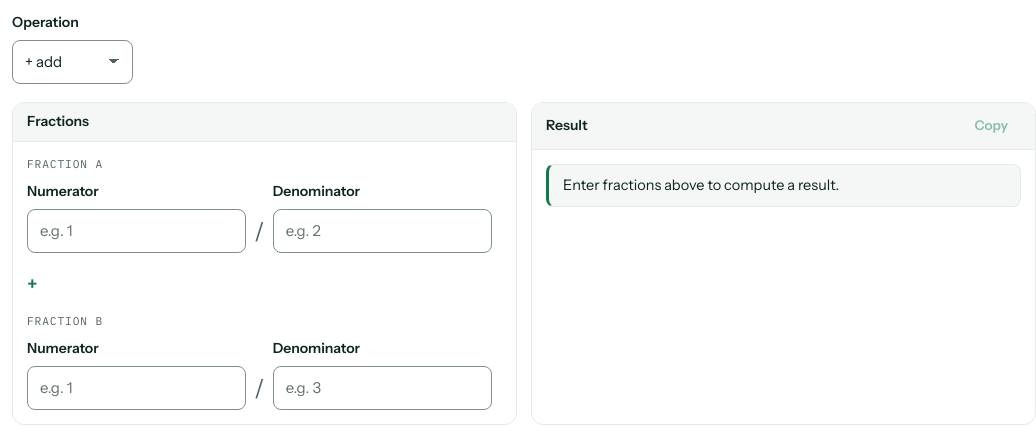
Scenario: FractionCalculator › computes subtraction: 3/4 − 1/4 = 1/2
Switch to subtraction
Select "− subtract" in the dropdown. click: [72, 62]
box: [12,40,133,84]
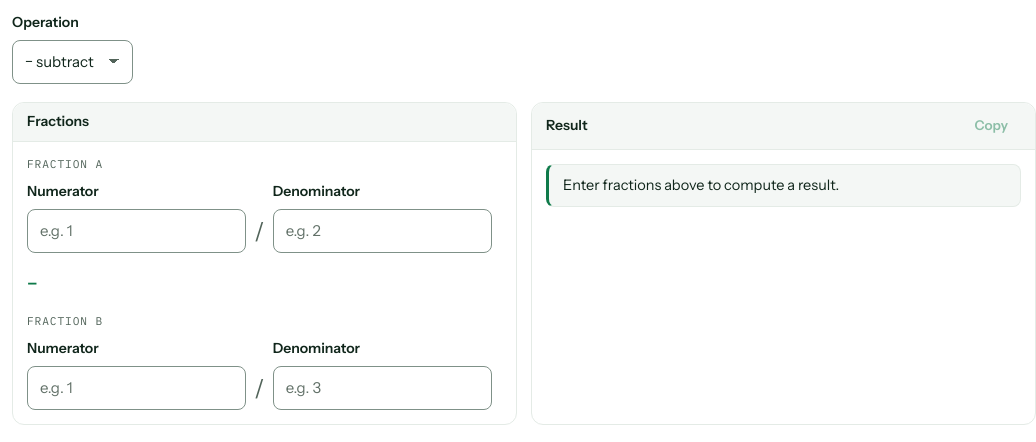
Type "3" into the number field labelled "Numerator" below "Fraction A". click: [136, 231]
box: [27,209,246,253]
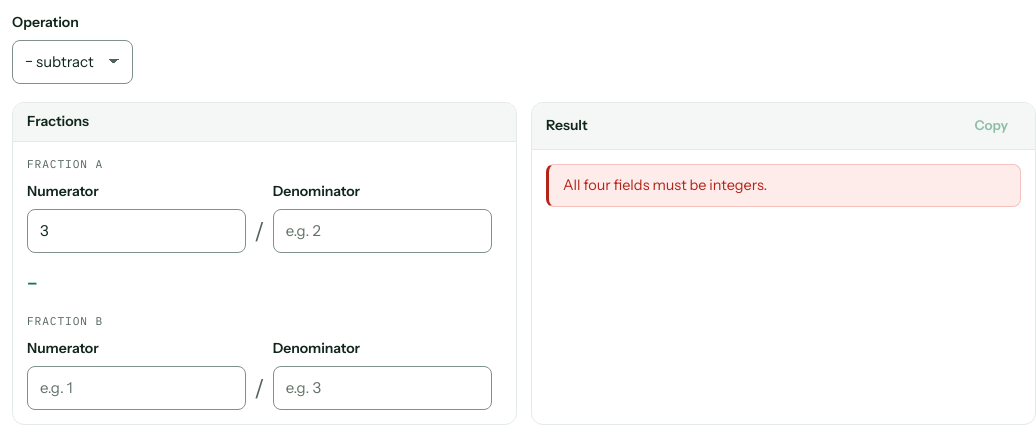
Type "4" into the number field labelled "Denominator" below "Fraction A". click: [382, 231]
box: [273,209,492,253]
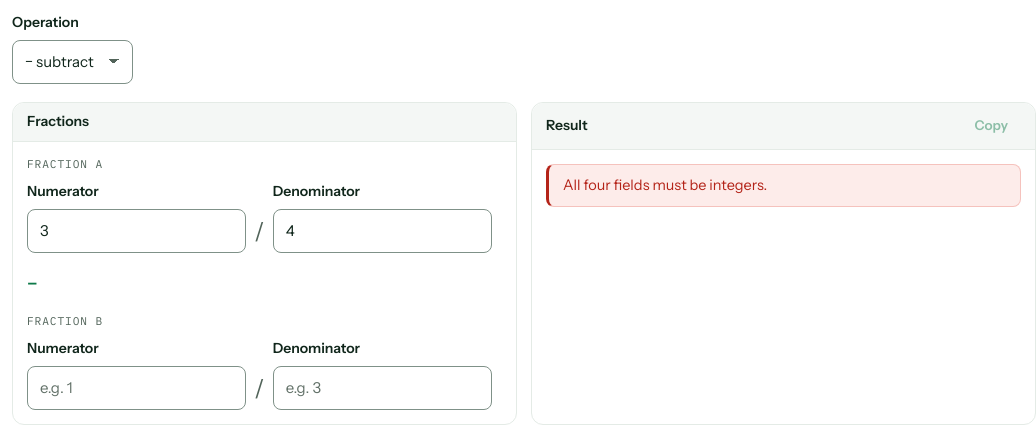
Type "1" into the number field labelled "Numerator" below "Fraction B". click: [136, 388]
box: [27,366,246,410]
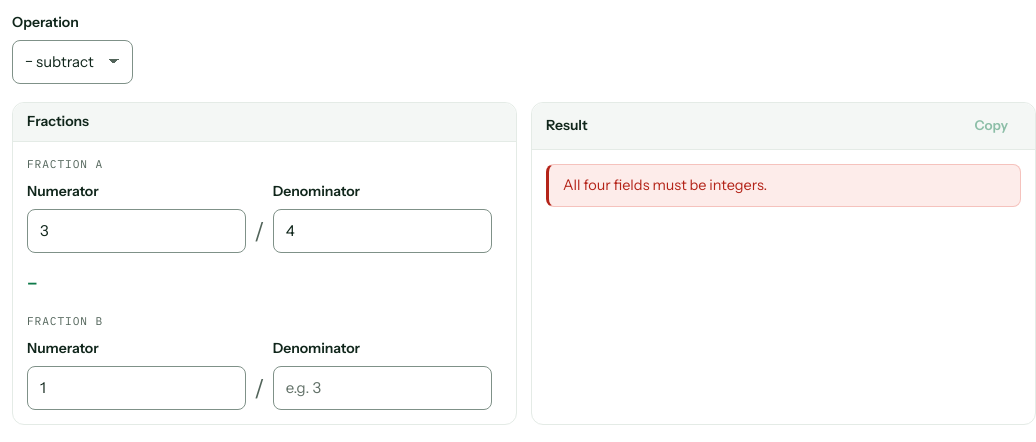
Type "4" into the number field labelled "Denominator" below "Fraction B". click: [382, 388]
box: [273,366,492,410]
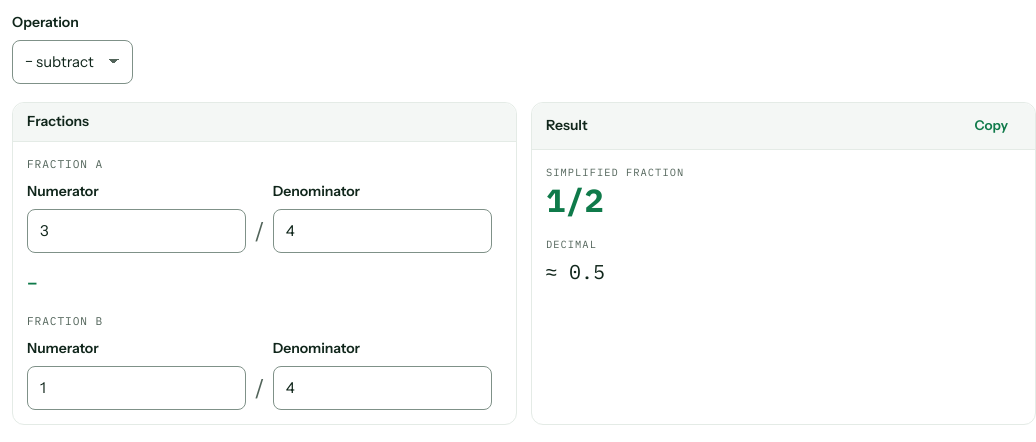
Result: the text "1/2" is shown at [546,179,604,221]
